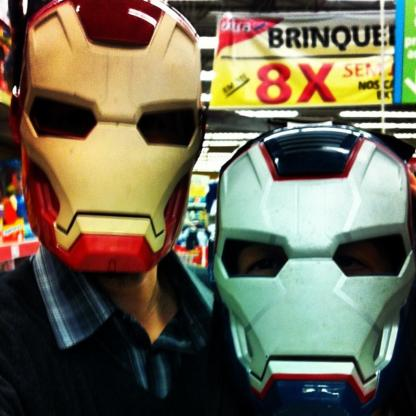Helmet: (207, 123, 416, 415), (7, 0, 208, 277)
